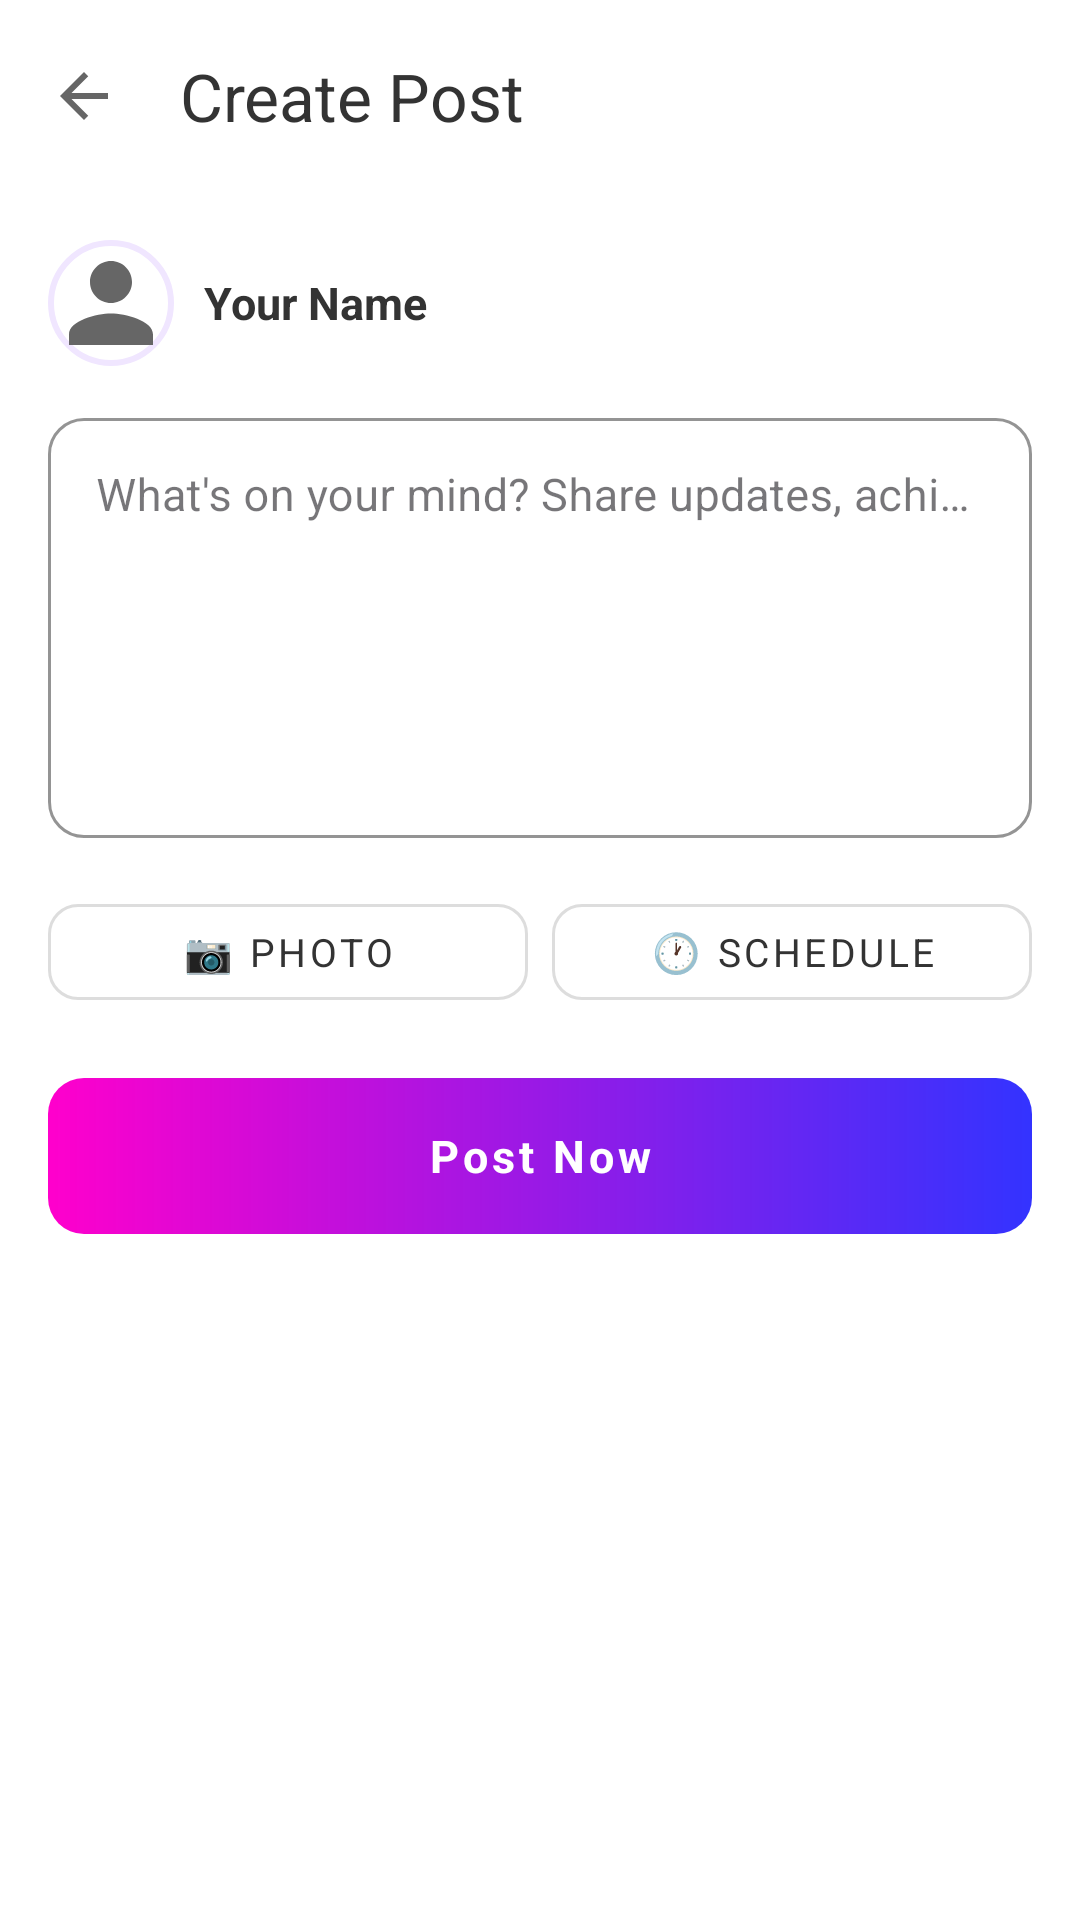

Screen size 1080px x 1920px. Icon name, then its box in pixels as (x1, y1, x2, y2):
profile: (48, 240, 174, 366)
